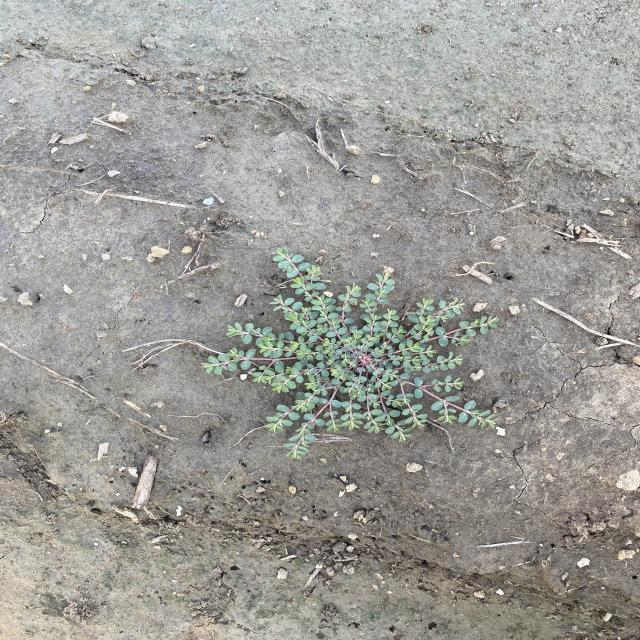SpottedSpurge: (198, 245, 501, 461)
